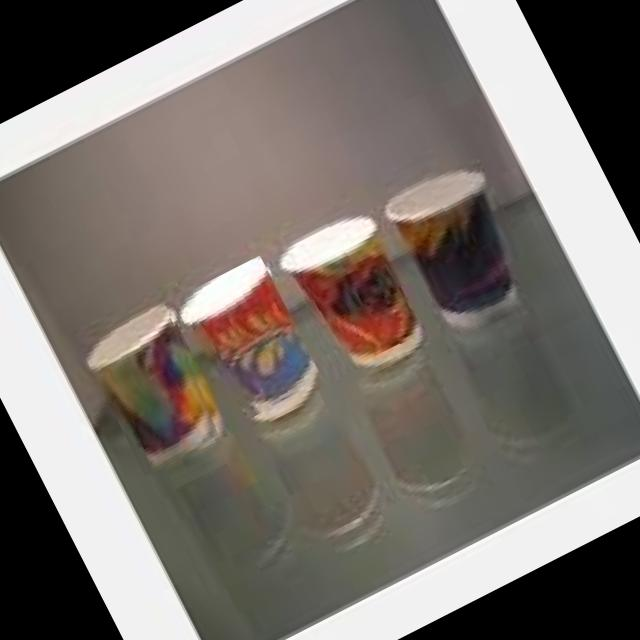PaperCardboard: (273, 210, 430, 369), (387, 166, 519, 329), (88, 306, 215, 464), (185, 260, 319, 409)
